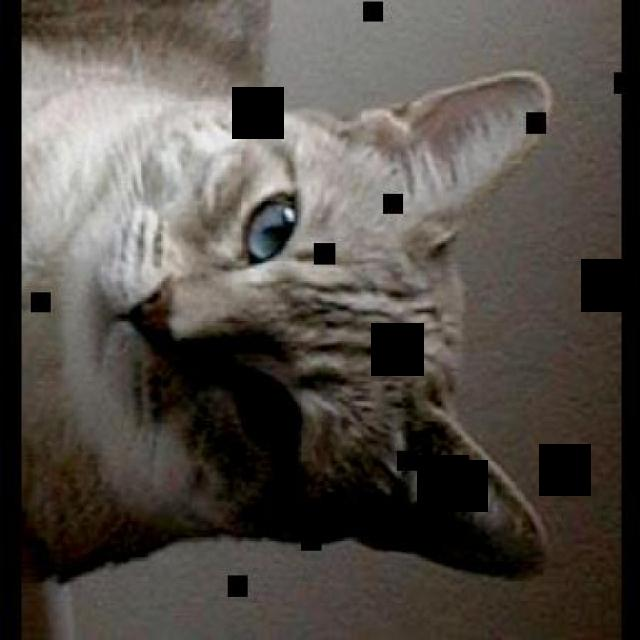unauthorized: (20, 0, 554, 585)
